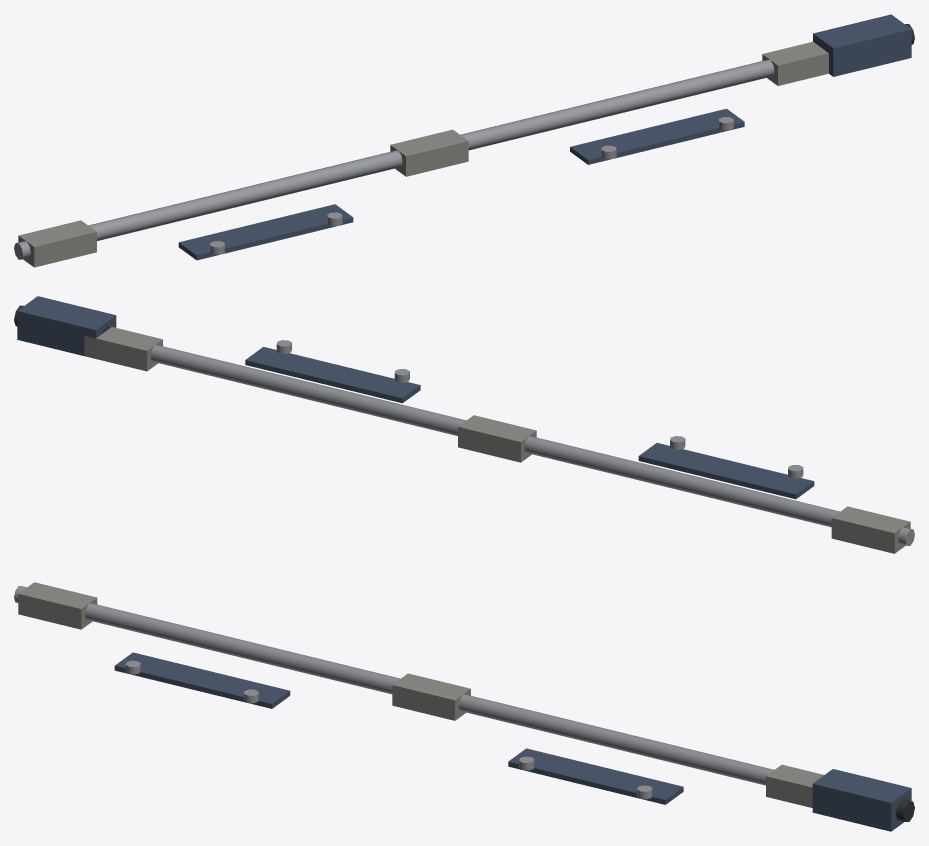
Rendered from rs50s_hinge.obj.
3 renders of one model, top to bottom at view 1: azimuth 30°, elevation 25°; view 2: azimuth 150°, elevation 25°; view 3: azimuth 330°, elevation 25°, orthographic.
Visible parts, largest first — view 1: rs50s_hinge; view 2: rs50s_hinge; view 3: rs50s_hinge.
Boxes of the visible parts, <box> form: rs50s_hinge: <box>14,14,914,267</box>; rs50s_hinge: <box>14,296,914,553</box>; rs50s_hinge: <box>14,582,914,831</box>.
Bounding box in the file's own units: 4.54 × 0.14 × 0.48.
